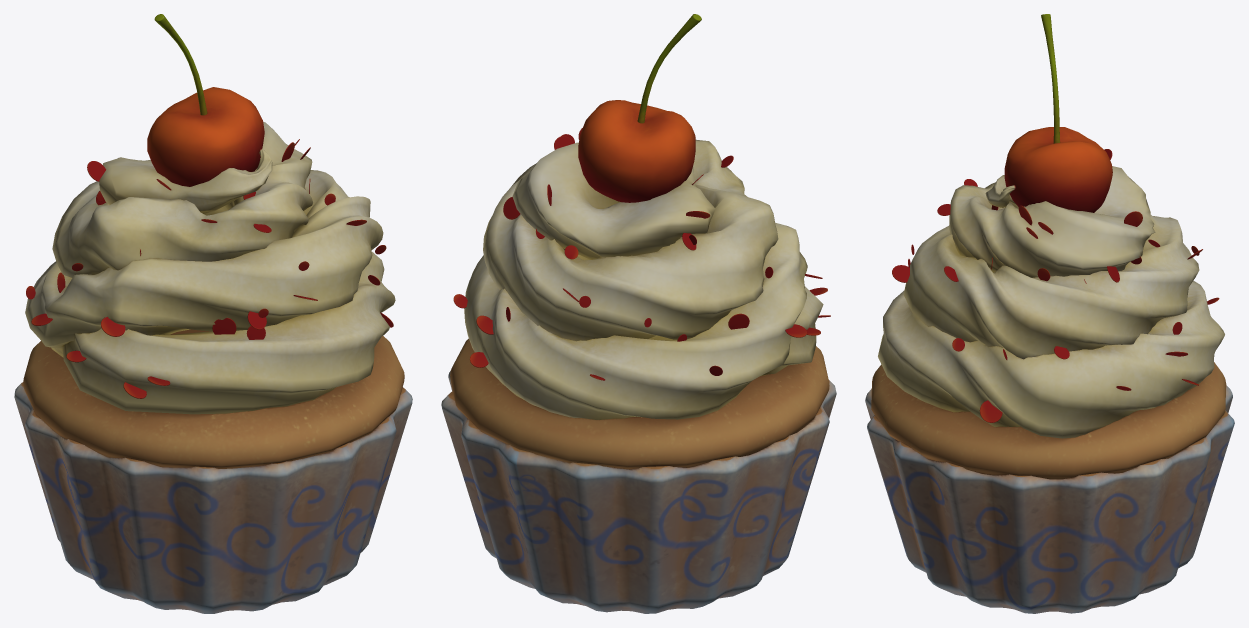
The model's file is cupcake -vainilla.glb.
3 views of the same model, side by side, from view 1: azimuth 30°, elevation 25°; view 2: azimuth 150°, elevation 25°; view 3: azimuth 270°, elevation 25° (orthographic). The views are drawn at different scales.
Visible parts, largest first — view 1: Object_3, Object_2; view 2: Object_3, Object_2; view 3: Object_3, Object_2.
Boxes of the visible parts, box(x1,y1,x2,y2) form: Object_3: box(25, 14, 395, 414); Object_2: box(14, 139, 412, 613); Object_3: box(464, 14, 827, 419); Object_2: box(441, 128, 836, 613); Object_3: box(878, 14, 1224, 438); Object_2: box(865, 149, 1234, 613).
Size of the model in its own units: 1.9 by 2.98 by 1.89.
Materials: 1 (1 with a texture image).
